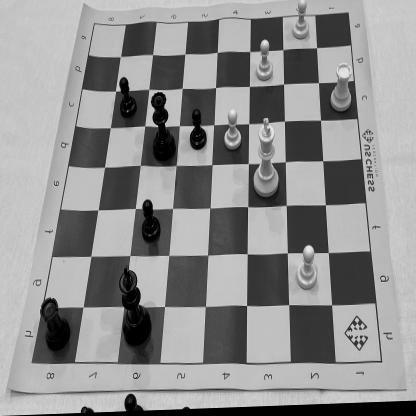black-king: (118, 261, 153, 351)
black-pawn: (138, 197, 163, 245), (186, 106, 208, 154), (118, 74, 139, 121)
black-queen: (148, 90, 178, 166)
black-rook: (38, 295, 72, 356)
white-king: (250, 116, 283, 201)
white-pawn: (295, 244, 321, 296), (289, 0, 314, 44), (253, 39, 276, 86), (222, 107, 244, 154)
white-rook: (328, 63, 356, 116)
